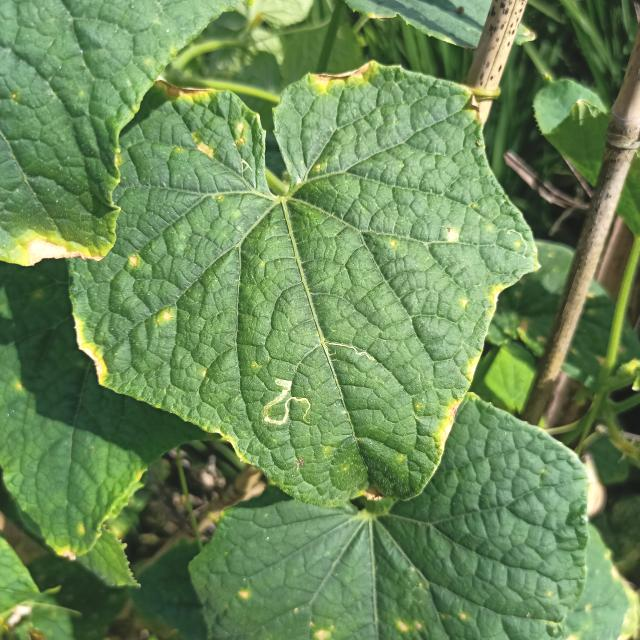disease_cucumber: (192, 119, 252, 160), (458, 280, 505, 314), (444, 226, 462, 246), (158, 307, 175, 324), (128, 253, 138, 268)
